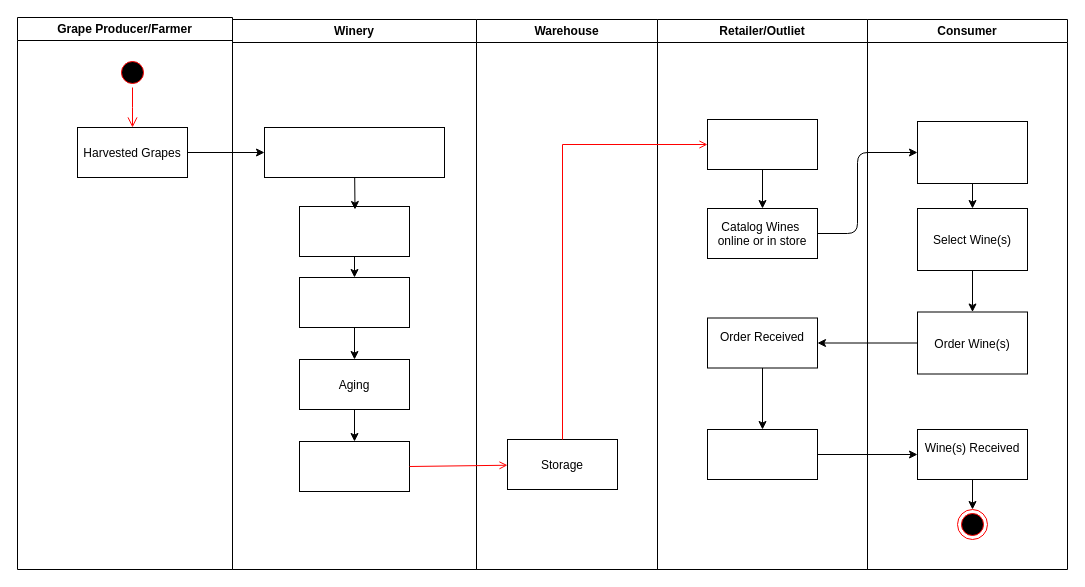
Some shapes in this 1085 by 587 pixel diagram are drawn without their labels. The centre of each missing label's shape, as x and y in pixels:
Bottling: point (354, 466)
Clarification: point (354, 302)
Crushing and Pressing: point (354, 152)
Dispatched Wine(s): point (762, 454)
Fermentation: point (354, 231)
Receive Wines from warehouse: point (762, 144)
View Wine Catalog: point (972, 152)
